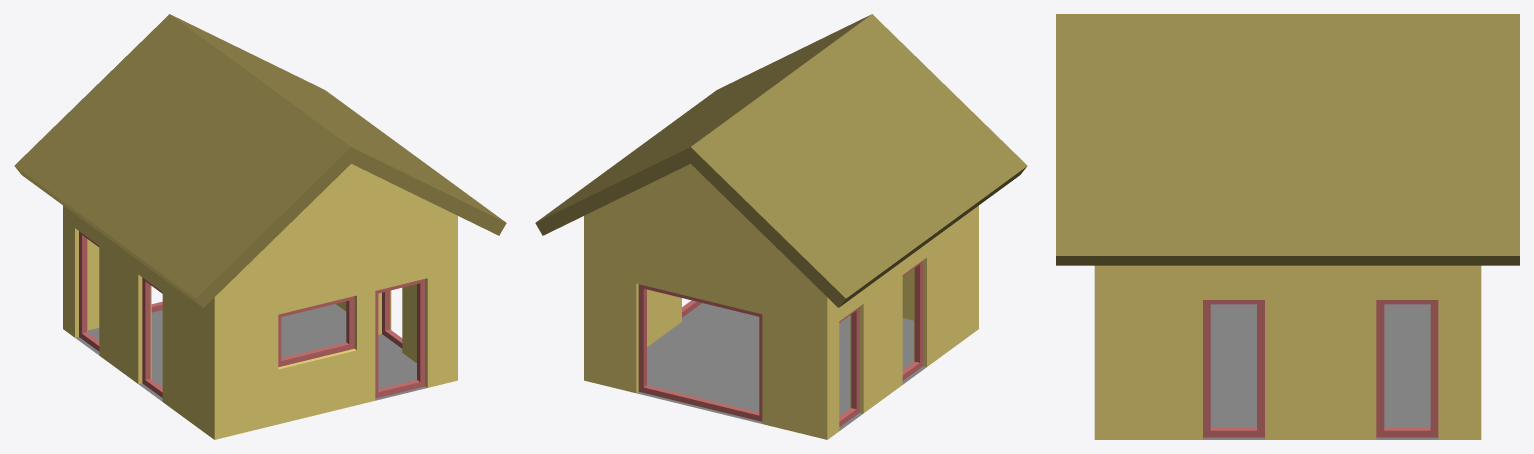
File: result.glb
3 renders of one model, left to right at view 1: azimuth 30°, elevation 25°; view 2: azimuth 150°, elevation 25°; view 3: azimuth 270°, elevation 25°, orthographic. The views are drawn at different scales.
Visible parts, largest first — view 1: f13ca740-a8e1-4ca5-ac4e-931e73b3256a__undefined (×2), c9b9cdbd-f9d3-4acd-941f-0f0ea50e48ef__undefined, 7178caad-e8d4-47ce-9406-d3eee71541da__Plane_8, c22a9c20-7849-4411-b2ba-d117c6bf6020__Box, d27c341c-060b-449a-9390-ad71ac25edcf__Box_3, 8d7aa492-b14a-4d25-9bf9-12222b7dcfb7__Box_12, 77e9fabb-c07c-4f44-8deb-b4213d6bd43d__Box_15, 6149bd65-f9bc-4be8-a1fc-e59eb6635796__Box_18; view 2: f13ca740-a8e1-4ca5-ac4e-931e73b3256a__undefined (×2), c9b9cdbd-f9d3-4acd-941f-0f0ea50e48ef__undefined, 7178caad-e8d4-47ce-9406-d3eee71541da__Plane_8, 6cc0539e-73c6-4be1-8233-4b0cfa6c0f50__Box_9, 8d7aa492-b14a-4d25-9bf9-12222b7dcfb7__Box_12, 77e9fabb-c07c-4f44-8deb-b4213d6bd43d__Box_15; view 3: f13ca740-a8e1-4ca5-ac4e-931e73b3256a__undefined, c9b9cdbd-f9d3-4acd-941f-0f0ea50e48ef__undefined, 7178caad-e8d4-47ce-9406-d3eee71541da__Plane_8, cec20f73-4944-452a-86fa-d280a27ed7f5__Box_21, 6149bd65-f9bc-4be8-a1fc-e59eb6635796__Box_18.
Boxes of the visible parts, left/top/right/bottom form: f13ca740-a8e1-4ca5-ac4e-931e73b3256a__undefined (×2): left=14, top=14, right=506, bottom=307; c9b9cdbd-f9d3-4acd-941f-0f0ea50e48ef__undefined: left=63, top=164, right=457, bottom=439; 7178caad-e8d4-47ce-9406-d3eee71541da__Plane_8: left=75, top=304, right=427, bottom=401; c22a9c20-7849-4411-b2ba-d117c6bf6020__Box: left=375, top=279, right=425, bottom=398; d27c341c-060b-449a-9390-ad71ac25edcf__Box_3: left=278, top=296, right=354, bottom=367; 8d7aa492-b14a-4d25-9bf9-12222b7dcfb7__Box_12: left=142, top=277, right=162, bottom=397; 77e9fabb-c07c-4f44-8deb-b4213d6bd43d__Box_15: left=79, top=231, right=99, bottom=351; 6149bd65-f9bc-4be8-a1fc-e59eb6635796__Box_18: left=382, top=290, right=402, bottom=348; f13ca740-a8e1-4ca5-ac4e-931e73b3256a__undefined (×2): left=535, top=14, right=1027, bottom=307; c9b9cdbd-f9d3-4acd-941f-0f0ea50e48ef__undefined: left=584, top=164, right=978, bottom=439; 7178caad-e8d4-47ce-9406-d3eee71541da__Plane_8: left=637, top=303, right=926, bottom=430; 6cc0539e-73c6-4be1-8233-4b0cfa6c0f50__Box_9: left=638, top=284, right=762, bottom=421; 8d7aa492-b14a-4d25-9bf9-12222b7dcfb7__Box_12: left=902, top=260, right=922, bottom=380; 77e9fabb-c07c-4f44-8deb-b4213d6bd43d__Box_15: left=839, top=307, right=859, bottom=426; f13ca740-a8e1-4ca5-ac4e-931e73b3256a__undefined: left=1056, top=14, right=1519, bottom=265; c9b9cdbd-f9d3-4acd-941f-0f0ea50e48ef__undefined: left=1094, top=265, right=1481, bottom=439; 7178caad-e8d4-47ce-9406-d3eee71541da__Plane_8: left=1203, top=304, right=1438, bottom=439; cec20f73-4944-452a-86fa-d280a27ed7f5__Box_21: left=1376, top=300, right=1438, bottom=437; 6149bd65-f9bc-4be8-a1fc-e59eb6635796__Box_18: left=1203, top=300, right=1264, bottom=437.
Size of the model in its own units: 593 by 500 by 600.
